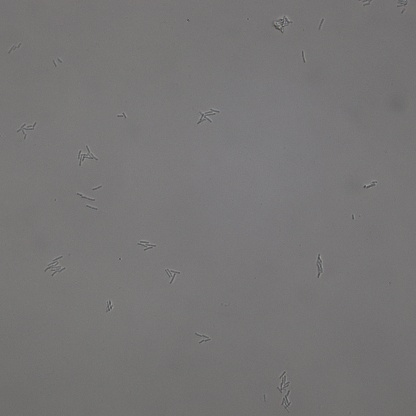R(colony): (44, 255, 66, 277), (77, 145, 98, 165), (272, 15, 292, 33), (17, 121, 36, 139), (197, 108, 220, 122), (276, 370, 290, 392), (165, 269, 181, 285), (315, 253, 325, 278), (282, 392, 293, 413), (138, 240, 157, 252), (196, 332, 212, 345), (362, 179, 377, 189), (7, 43, 20, 53), (52, 58, 63, 67), (106, 300, 113, 312), (118, 112, 127, 120)
